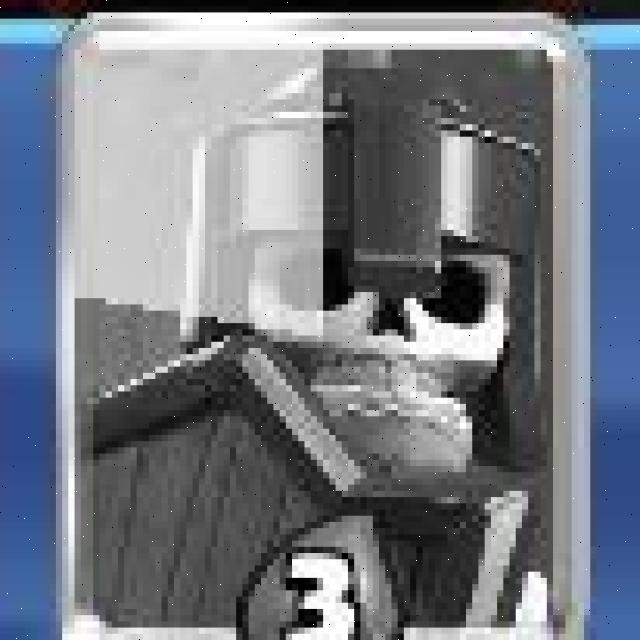Guards: (58, 15, 590, 640)
